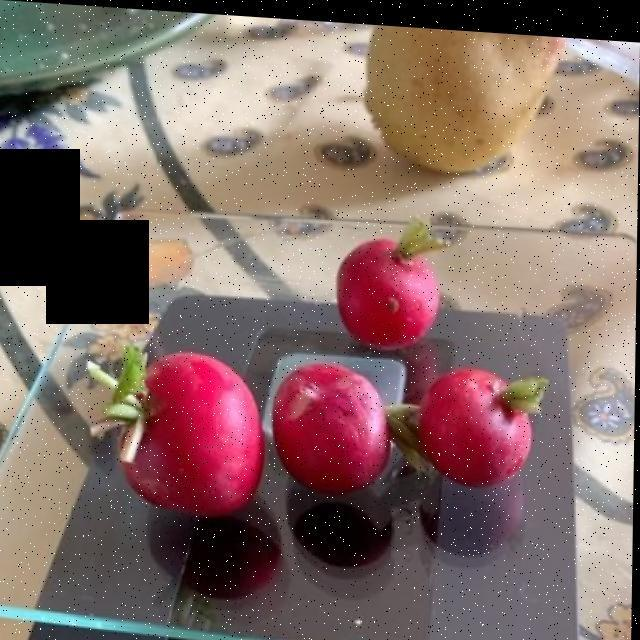radish: (98, 218, 542, 524)
